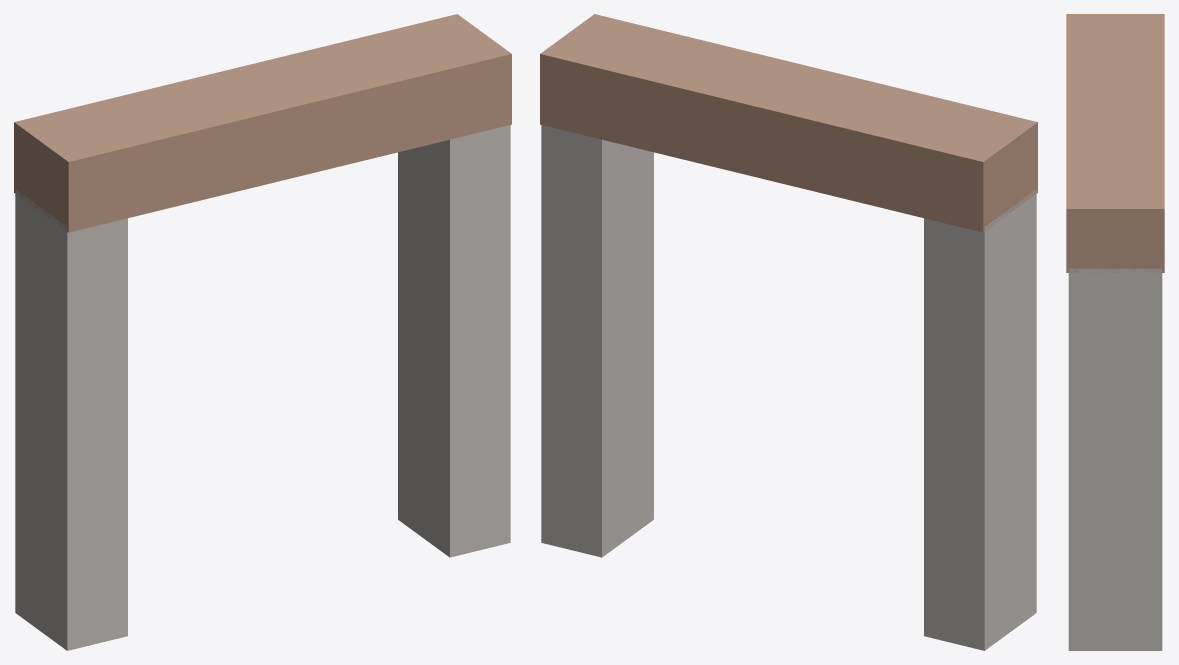
File: ground-truth.glb
3 views of the same model, side by side, from view 1: azimuth 30°, elevation 25°; view 2: azimuth 150°, elevation 25°; view 3: azimuth 270°, elevation 25° (orthographic). The views are drawn at different scales.
Parts seen in each view (by area): view 1: original_02, original_00, original_01; view 2: original_02, original_00, original_01; view 3: original_01, original_02.
Boxes of the visible parts, x1=… form: original_02: x1=14, y1=14, x2=511, y2=232; original_00: x1=15, y1=189, x2=127, y2=650; original_01: x1=398, y1=125, x2=510, y2=557; original_02: x1=540, y1=14, x2=1037, y2=232; original_00: x1=924, y1=190, x2=1036, y2=650; original_01: x1=541, y1=125, x2=653, y2=557; original_01: x1=1068, y1=268, x2=1162, y2=650; original_02: x1=1066, y1=14, x2=1164, y2=272.
Size of the model in its own units: 1.97 by 2.08 by 0.42.
